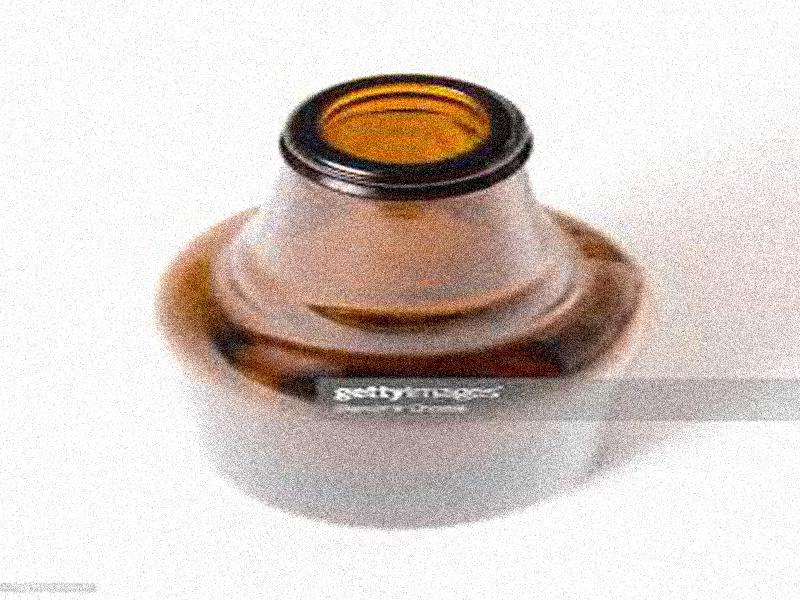Beer: (157, 72, 651, 530)
